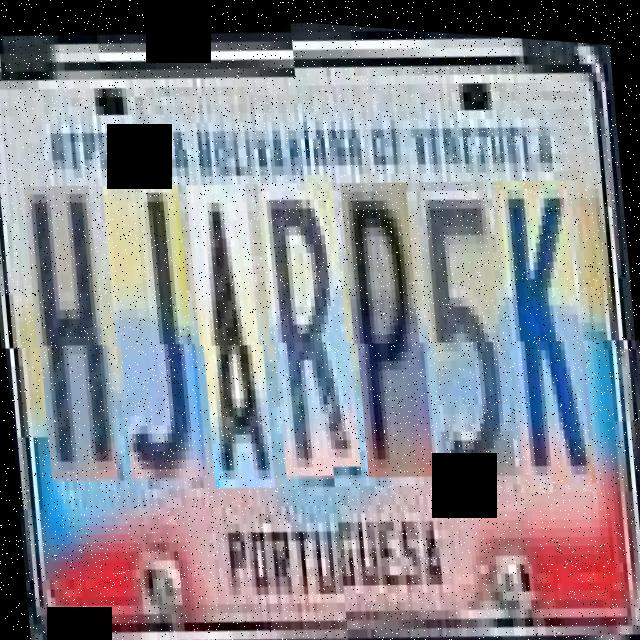5: (419, 177, 516, 482)
A: (189, 177, 275, 488)
H: (27, 180, 120, 484)
J: (106, 178, 206, 483)
K: (498, 176, 596, 488)
P: (344, 180, 438, 484)
R: (260, 172, 362, 478)
